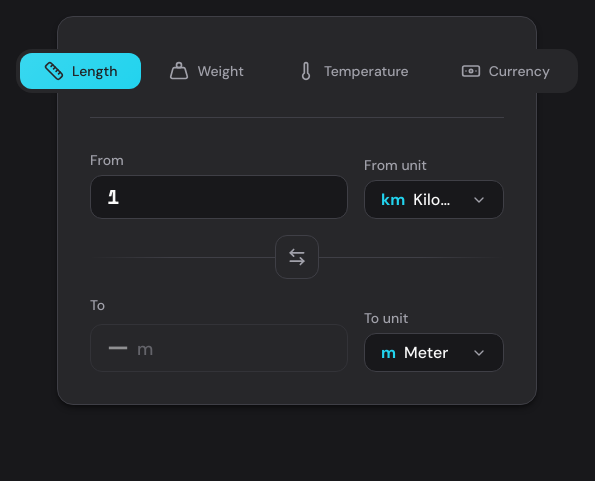
Test: ConverterCard › category switching › updates available units when category changes
This screenshot has width=595, height=481.
# Initially length units
Click the button named "unit".
click(434, 199)  # box top-left (364, 180), bottom-right (504, 218)
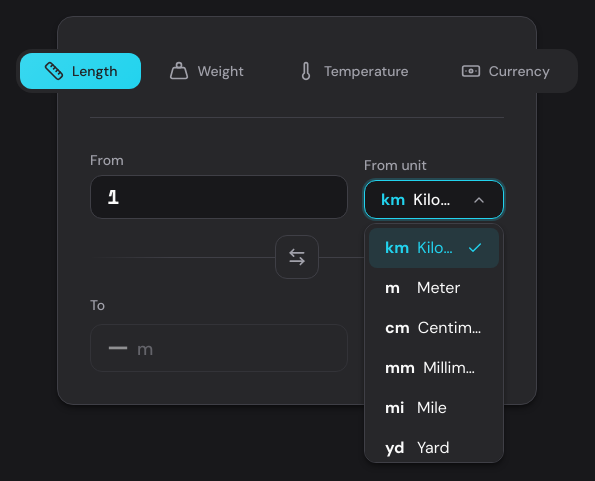
Check: the 1st text "Kilometer" is shown, box top-left (413, 188), bottom-right (463, 210)
# Close dropdown by pressing Escape
Press Escape in the button named "unit", box top-left (364, 180), bottom-right (504, 218)
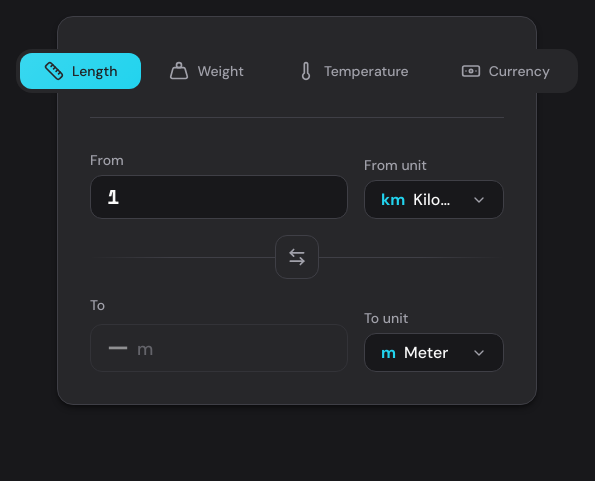
# Switch to weight
Click the tab "Weight".
click(207, 70)  # box top-left (146, 52), bottom-right (268, 88)
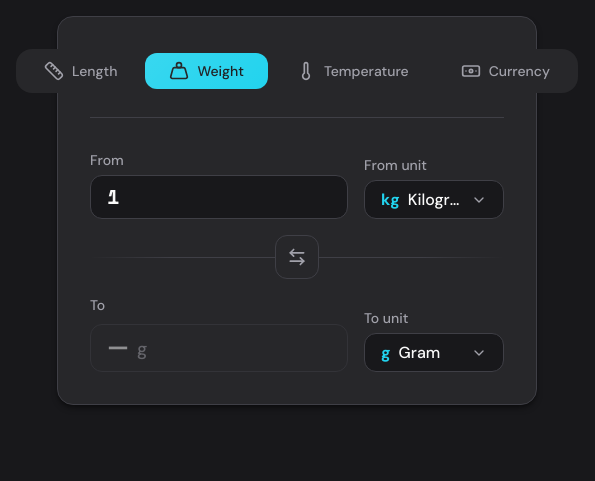
# Open from unit dropdown again
Click the button named "unit".
click(434, 199)  # box top-left (364, 180), bottom-right (504, 218)
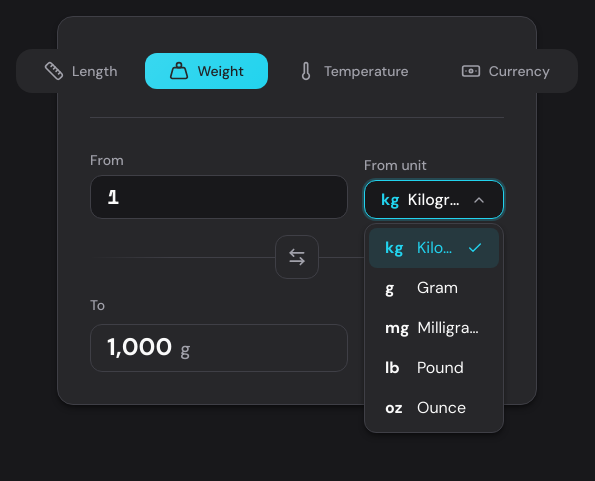
Check: the 1st text "Kilogram" is shown, box top-left (408, 188), bottom-right (463, 210)
Check: the text "Gram" is shown, box top-left (417, 276), bottom-right (458, 298)
